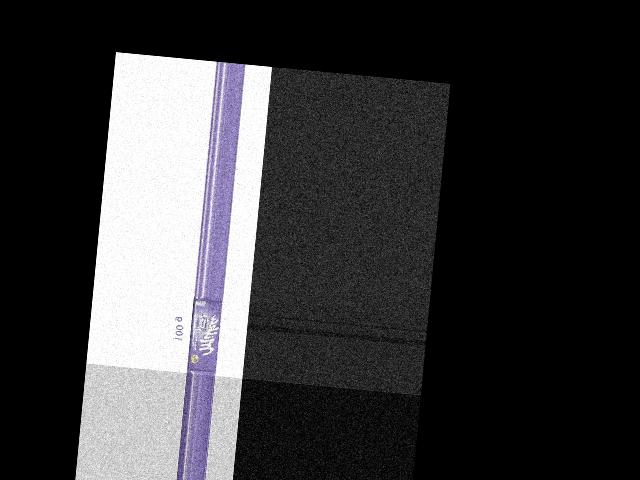chocolate: (181, 294, 223, 373)
